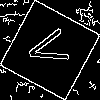V: (25, 25, 79, 70)
